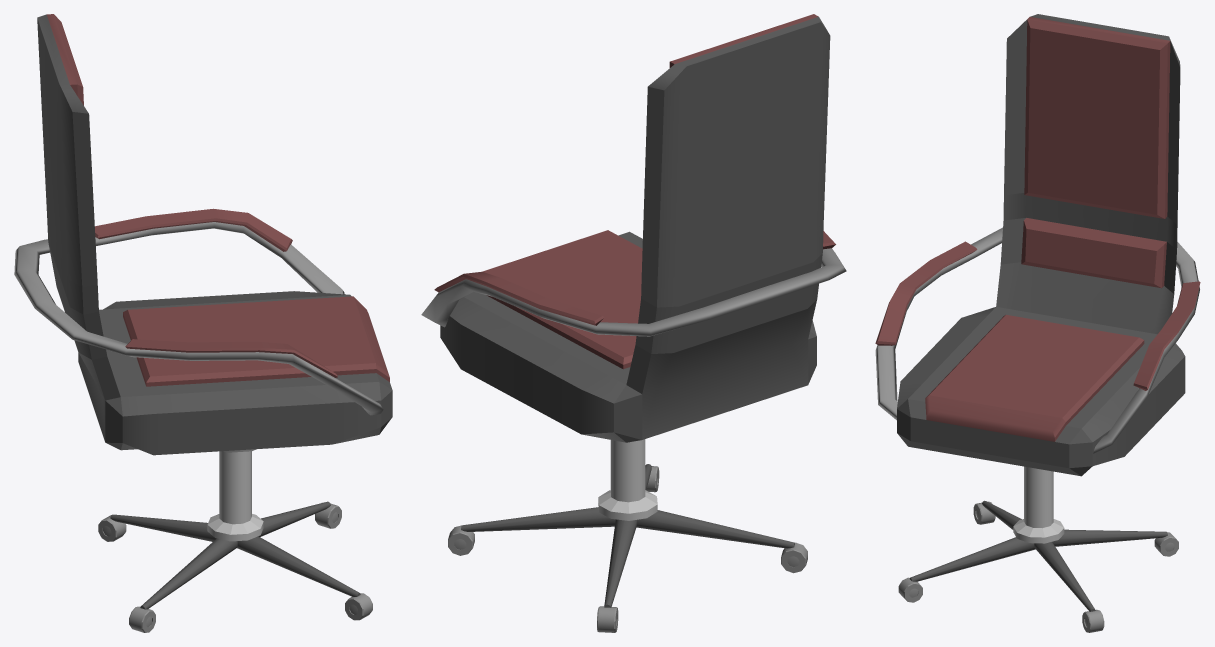
The model's file is Chair.fbx.
The picture shows the model from 3 angles, left to right: view 1: azimuth 30°, elevation 25°; view 2: azimuth 150°, elevation 25°; view 3: azimuth 270°, elevation 25°; orthographic projection. The views are drawn at different scales.
Visible parts, largest first — view 1: Chair; view 2: Chair; view 3: Chair.
Part boxes in pixels (x1,y1,x2,y2): Chair: [14, 14, 392, 632]; Chair: [421, 14, 846, 632]; Chair: [875, 14, 1200, 632].
Bounding box in the file's own units: 4.79 × 7.2 × 4.37.
